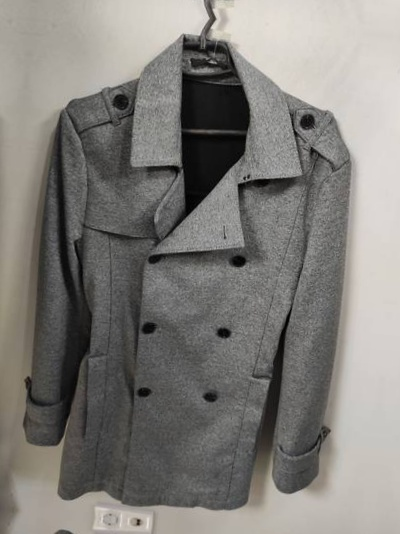Blazer: (3, 28, 385, 521), (0, 0, 14, 484), (53, 0, 400, 9), (397, 68, 400, 534), (0, 530, 335, 534)
